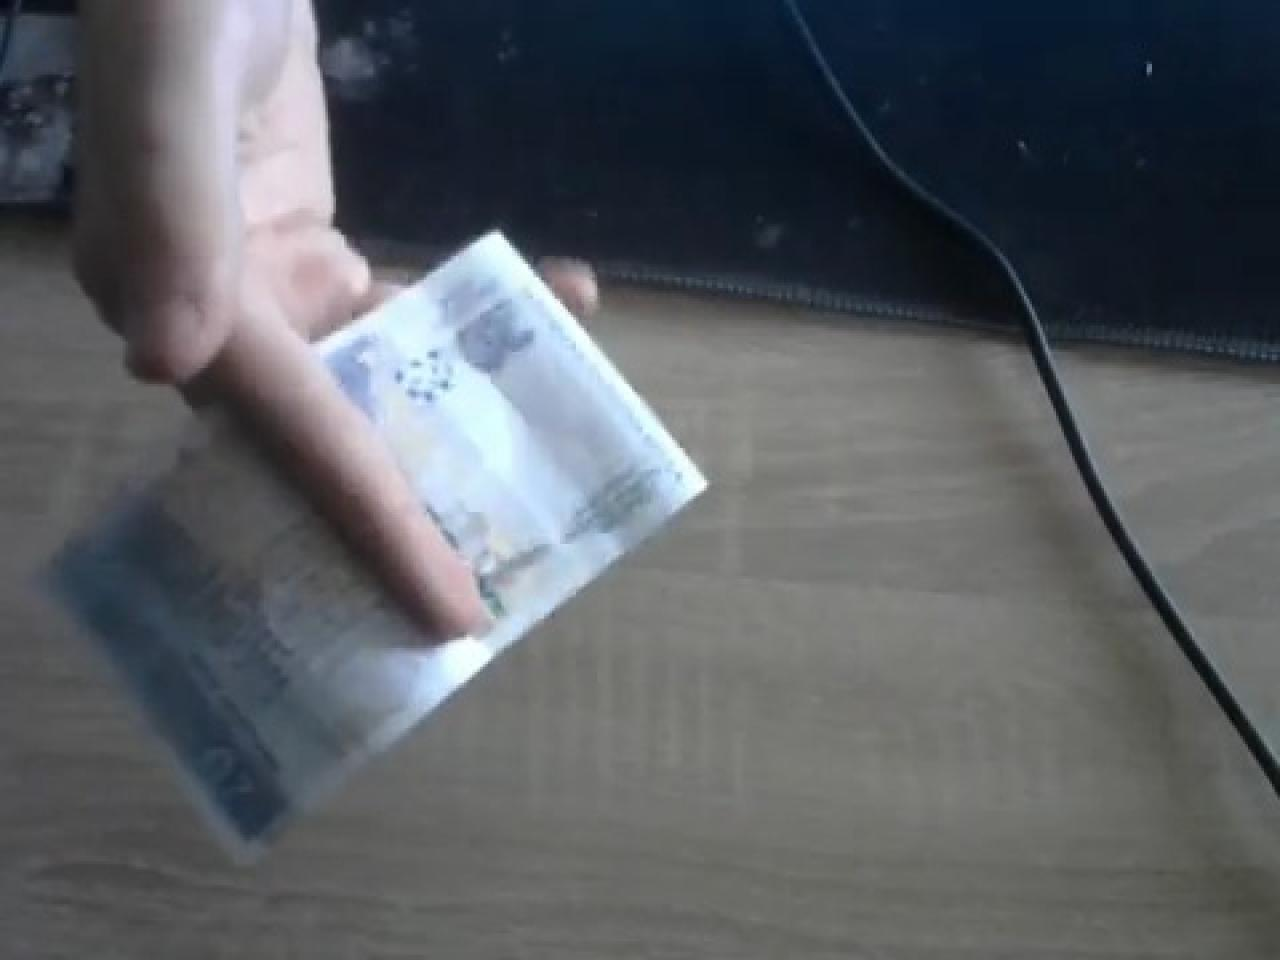20leva: (304, 235, 707, 704)
